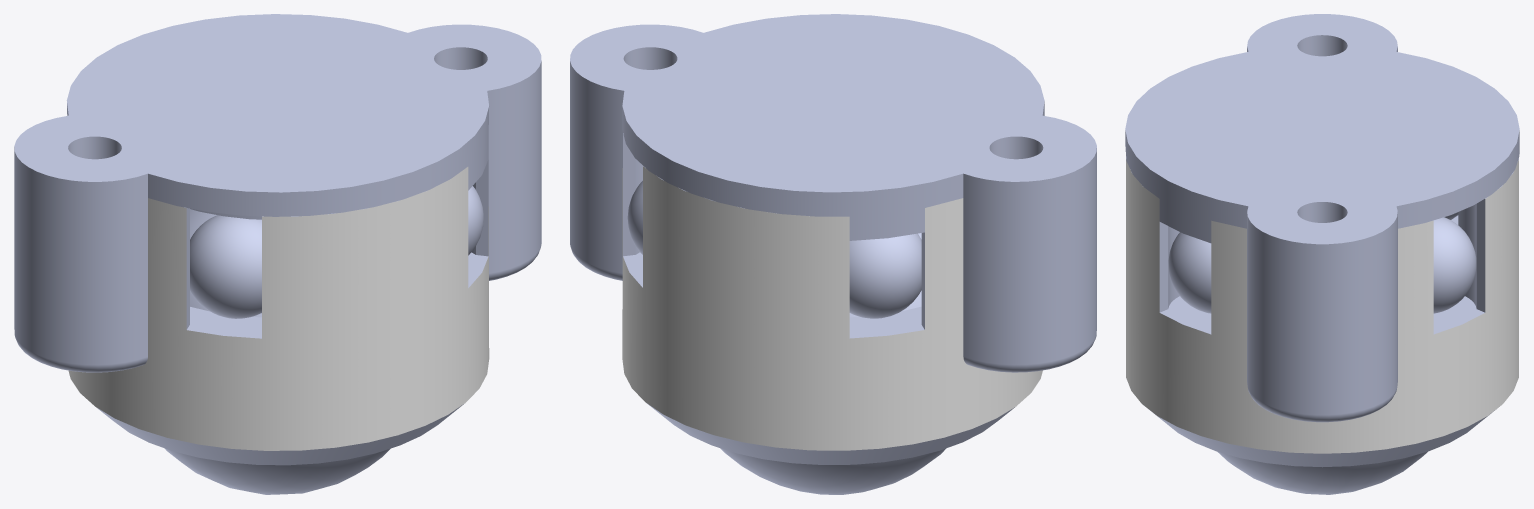
Rendered from freewheel.dae.
The picture shows the model from 3 angles, left to right: view 1: azimuth 30°, elevation 25°; view 2: azimuth 150°, elevation 25°; view 3: azimuth 270°, elevation 25°; orthographic projection. The views are drawn at different scales.
Visible parts, largest first — view 1: casterballwheelbody, casterballwheellid, 4mmball_1, 12mmball, 4mmball_2; view 2: casterballwheelbody, casterballwheellid, 4mmball_3, 12mmball, 4mmball; view 3: casterballwheelbody, casterballwheellid, 12mmball, 4mmball, 4mmball_2.
Part boxes in pixels (x1,y1,x2,y2): casterballwheelbody: [14, 85, 541, 465]; casterballwheellid: [14, 14, 541, 219]; 4mmball_1: [190, 215, 261, 318]; 12mmball: [165, 209, 390, 494]; 4mmball_2: [468, 186, 483, 255]; casterballwheelbody: [570, 86, 1096, 464]; casterballwheellid: [570, 14, 1096, 240]; 4mmball_3: [849, 233, 921, 318]; 12mmball: [720, 233, 945, 494]; 4mmball: [627, 181, 642, 254]; casterballwheelbody: [1126, 156, 1518, 467]; casterballwheellid: [1125, 14, 1519, 266]; 12mmball: [1217, 451, 1427, 494]; 4mmball: [1433, 217, 1476, 313]; 4mmball_2: [1168, 232, 1211, 313].
Size of the model in its own units: 0.0217 by 0.0157 by 0.0154.
